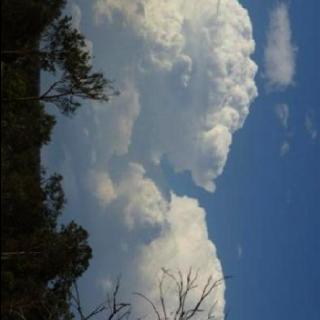Cumulonimbus: (43, 0, 320, 320)
